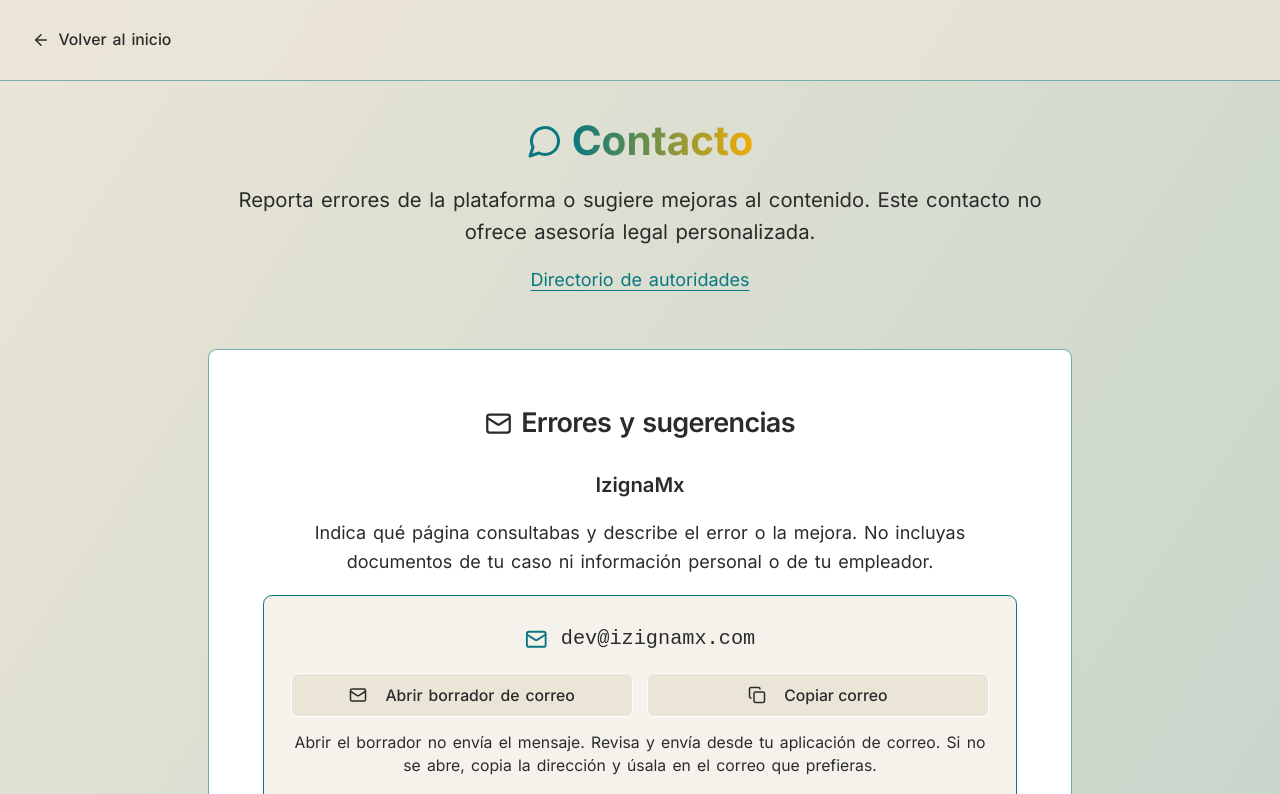
Test: Contacto › shows a manual fallback instead of success when copying is rejected
Click the button "Copiar correo".
click(818, 695)  # box [647,673,989,717]
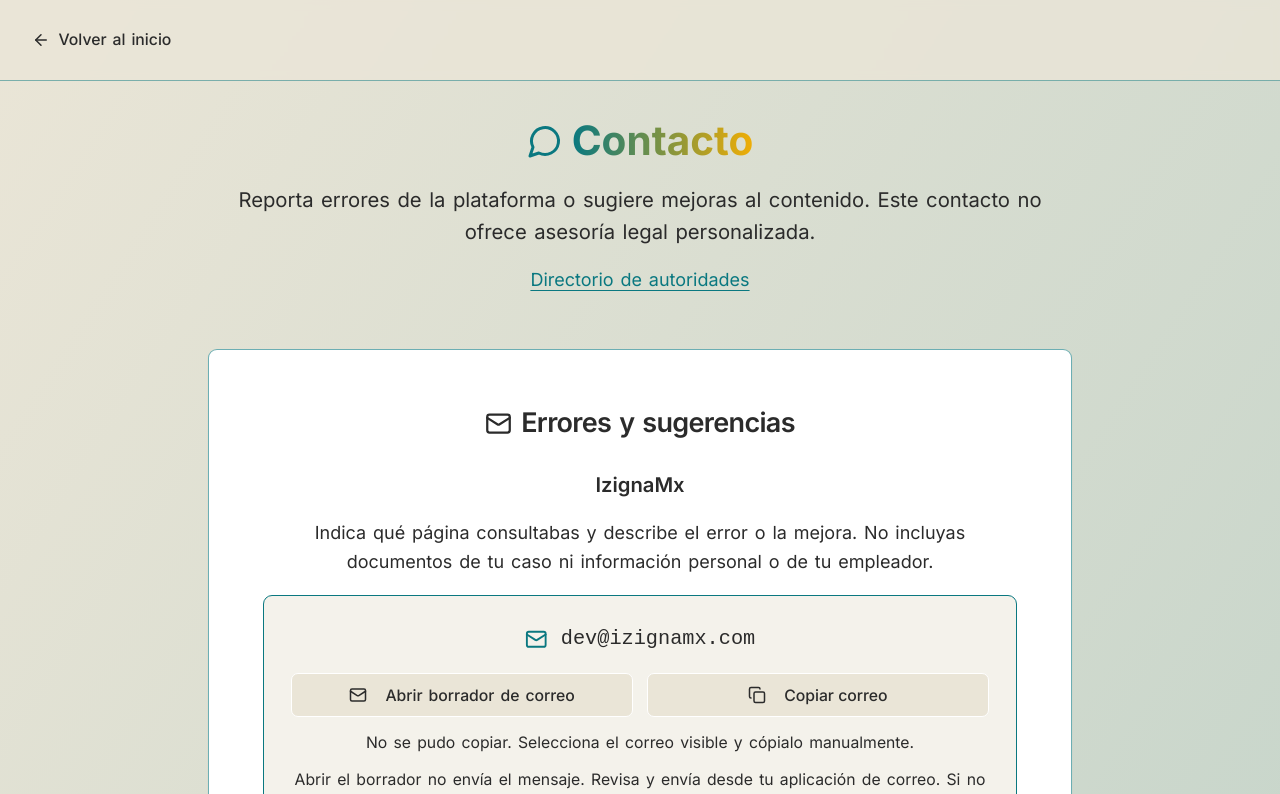
Check: the text "No se pudo copiar. Selecciona el correo visible y cópialo manualmente." is shown, box [366,733,914,752]
